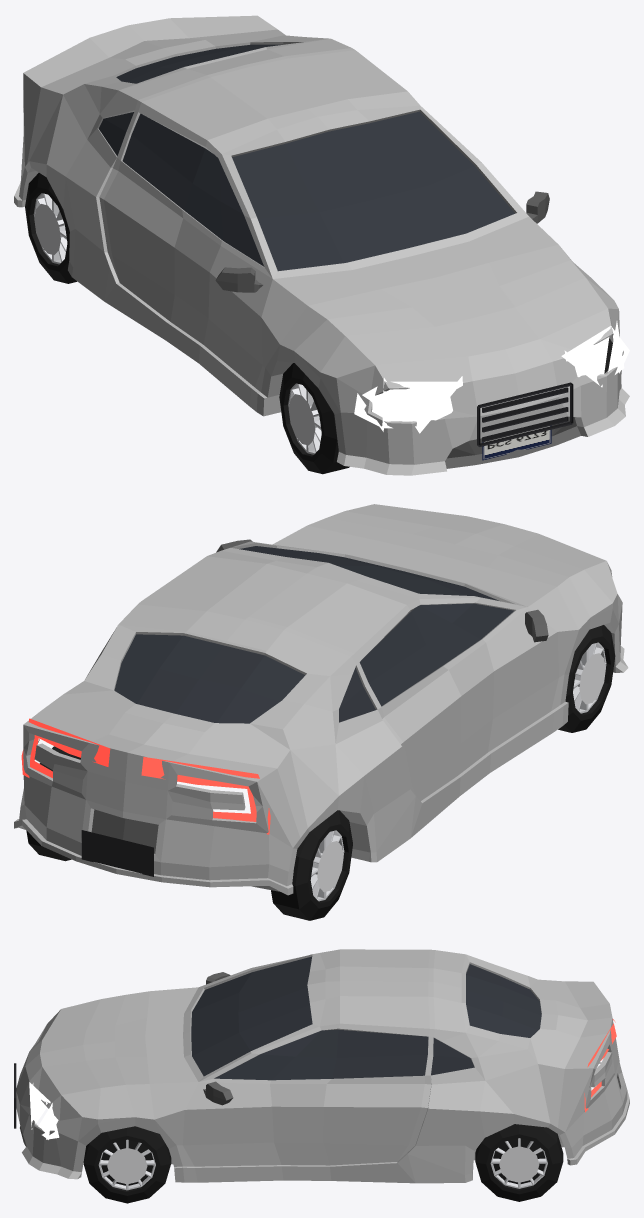
The model's file is sports_b.glb.
3 views of the same model, one above another, from view 1: azimuth 30°, elevation 25°; view 2: azimuth 150°, elevation 25°; view 3: azimuth 270°, elevation 25° (orthographic). The views are drawn at different scales.
Parts seen in each view (by area): view 1: body, hood, door_FR, bumper_front, wheel_FR, headlight_R (×2), grille, wheel_RR, hubcap (×2), headlight_L, plate, door_FL; view 2: body, door_FR, hood, bumper_rear, wheel_RR, wheel_FR, plate, hubcap (×2), taillight_R, taillight_L; view 3: body, door_FL, hood, wheel_RL, wheel_FL, bumper_front, hubcap (×2), bumper_rear, headlight_L, door_FR.
Boxes of the visible parts, x1,y1,x2,y2 form: body: [14, 15, 621, 465]; hood: [261, 216, 618, 412]; door_FR: [65, 90, 272, 415]; bumper_front: [344, 350, 629, 475]; wheel_FR: [279, 363, 349, 474]; headlight_R (×2): [354, 376, 462, 433]; grille: [477, 382, 573, 446]; wheel_RR: [25, 173, 76, 283]; hubcap (×2): [34, 204, 315, 445]; headlight_L: [561, 326, 629, 387]; plate: [482, 425, 551, 460]; door_FL: [419, 110, 549, 223]; body: [14, 539, 627, 895]; door_FR: [330, 597, 567, 862]; hood: [272, 504, 617, 631]; bumper_rear: [22, 787, 268, 887]; wheel_RR: [271, 810, 352, 920]; wheel_FR: [558, 625, 615, 732]; plate: [81, 830, 153, 876]; hubcap (×2): [317, 653, 605, 891]; taillight_R: [141, 757, 270, 834]; taillight_L: [21, 718, 110, 778]; body: [20, 949, 622, 1179]; door_FL: [174, 1026, 485, 1183]; hood: [25, 987, 198, 1126]; wheel_RL: [475, 1124, 563, 1201]; wheel_FL: [83, 1126, 171, 1203]; bumper_front: [16, 1067, 77, 1178]; hubcap (×2): [107, 1146, 539, 1184]; bumper_rear: [582, 1062, 629, 1151]; headlight_L: [29, 1082, 59, 1139]; door_FR: [204, 954, 312, 989].
Size of the model in its own units: 2.03 by 1.3 by 4.26.
Materials: 12 (1 with a texture image).
